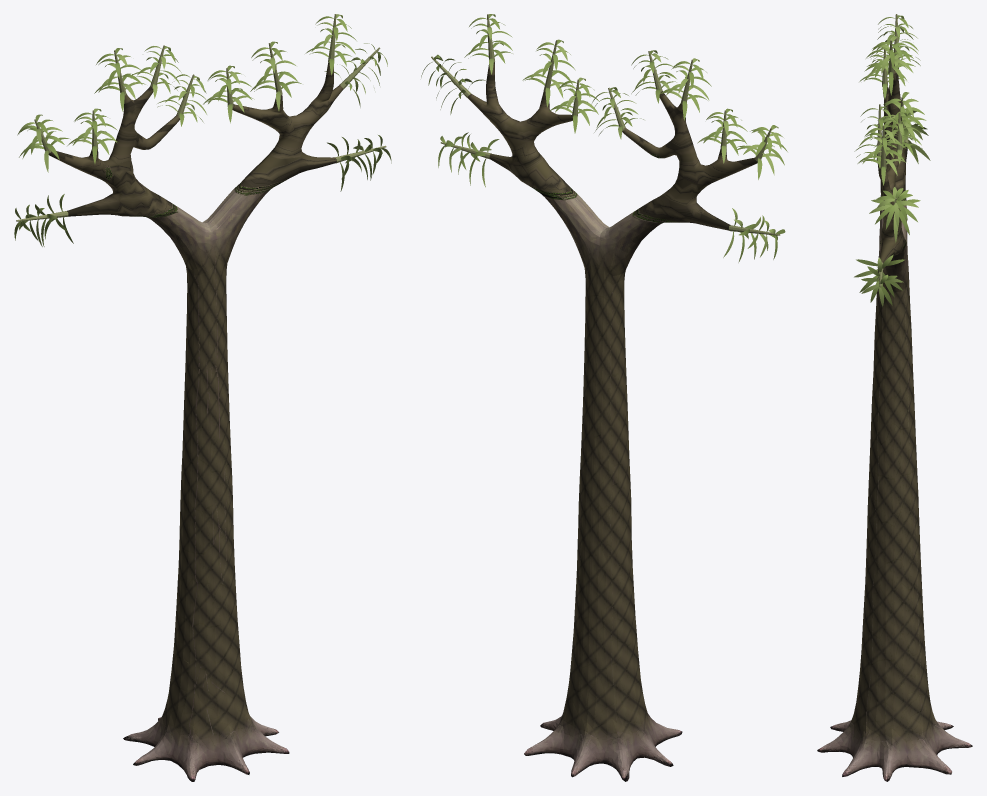
3 views of the same model, side by side, from view 1: azimuth 30°, elevation 25°; view 2: azimuth 150°, elevation 25°; view 3: azimuth 270°, elevation 25° (orthographic). The views are drawn at different scales.
Parts seen in each view (by area): view 1: retained_original, reference_constrained_artistic_crown, open_terminal_strap_leaves; view 2: retained_original, reference_constrained_artistic_crown, open_terminal_strap_leaves; view 3: retained_original, open_terminal_strap_leaves, reference_constrained_artistic_crown.
Boxes of the visible parts, bbox=[...] form: retained_original: bbox=[123, 189, 289, 781]; reference_constrained_artistic_crown: bbox=[48, 62, 343, 217]; open_terminal_strap_leaves: bbox=[14, 14, 391, 246]; retained_original: bbox=[524, 195, 682, 781]; reference_constrained_artistic_crown: bbox=[467, 62, 757, 230]; open_terminal_strap_leaves: bbox=[421, 14, 787, 262]; retained_original: bbox=[817, 205, 972, 781]; open_terminal_strap_leaves: bbox=[854, 15, 930, 306]; reference_constrained_artistic_crown: bbox=[877, 63, 907, 262].
Size of the model in its own units: 0.518 by 0.9812 by 0.1982.
Materials: 5 (1 with a texture image).
